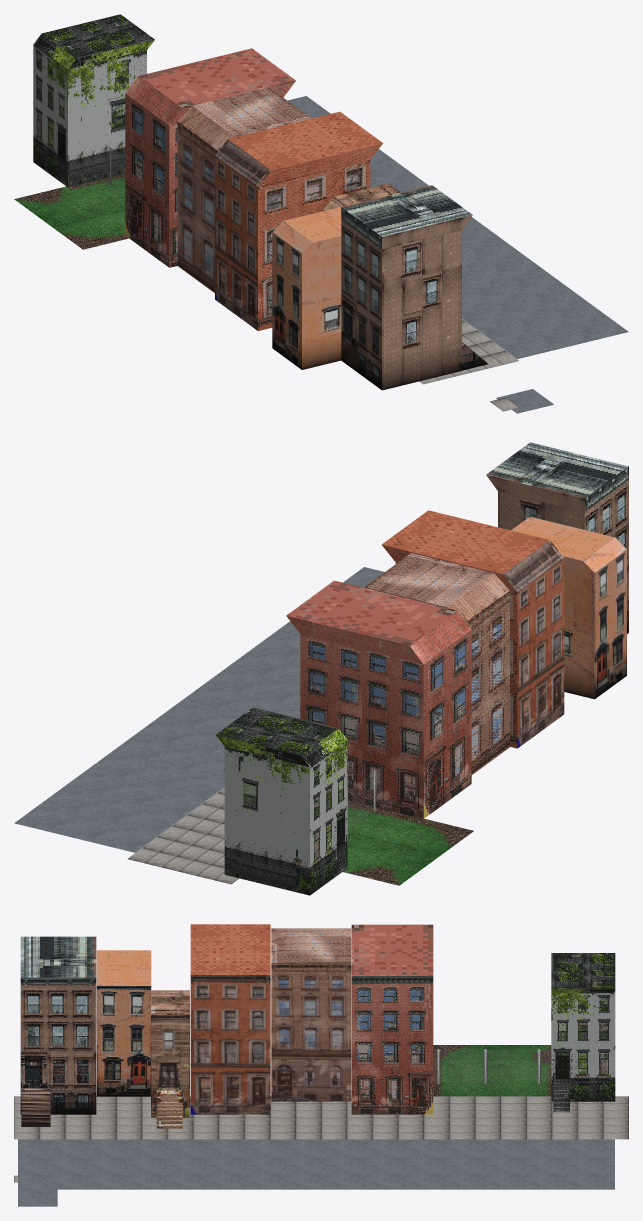
Rendered from brownstonev2_w_1col_2nml.gltf.
3 renders of one model, top to bottom at view 1: azimuth 30°, elevation 25°; view 2: azimuth 150°, elevation 25°; view 3: azimuth 270°, elevation 25°, orthographic. The views are drawn at different scales.
Visible parts, largest first — view 1: 0 -col, 4 -col, 7 -col, 6 -col, road_small -col, 1 -col, 5 -col, Plane -col, sidewalk_small -col, 3 -col, road_small.001; view 2: 6 -col, road_small -col, 7 -col, 4 -col, 5 -col, 1 -col, 0 -col, Plane -col, sidewalk_small -col; view 3: road_small -col, sidewalk_small -col, 6 -col, 4 -col, 5 -col, 0 -col, 7 -col, 1 -col, Plane -col, 3 -col, 0Stairs -col, 3Stairs -col (+4 smaller).
Boxes of the visible parts, x1,y1,x2,y2 form: 0 -col: (341, 185, 472, 390); 4 -col: (215, 111, 383, 330); 7 -col: (33, 14, 154, 187); 6 -col: (125, 48, 295, 267); road_small -col: (287, 96, 628, 359); 1 -col: (272, 202, 361, 369); 5 -col: (177, 87, 311, 292); Plane -col: (14, 174, 128, 249); sidewalk_small -col: (419, 319, 518, 384); 3 -col: (322, 183, 400, 211); road_small.001: (496, 389, 553, 413); 6 -col: (286, 580, 471, 818); road_small -col: (14, 567, 384, 852); 7 -col: (215, 707, 347, 895); 4 -col: (381, 510, 564, 748); 5 -col: (364, 553, 509, 774); 1 -col: (511, 516, 626, 699); 0 -col: (486, 442, 628, 633); Plane -col: (343, 800, 473, 885); sidewalk_small -col: (128, 788, 239, 884); road_small -col: (18, 1139, 614, 1189); sidewalk_small -col: (14, 1096, 628, 1139); 6 -col: (351, 924, 433, 1114); 4 -col: (190, 924, 270, 1114); 5 -col: (271, 928, 351, 1101); 0 -col: (20, 936, 96, 1114); 7 -col: (551, 953, 615, 1101); 1 -col: (96, 950, 151, 1096); Plane -col: (433, 1045, 551, 1096); 3 -col: (151, 990, 189, 1117); 0Stairs -col: (21, 1088, 50, 1126); 3Stairs -col: (156, 1089, 182, 1128).
Size of the model in its own units: 45.12 by 28.25 by 80.2.
Materials: 12 (12 with a texture image).
